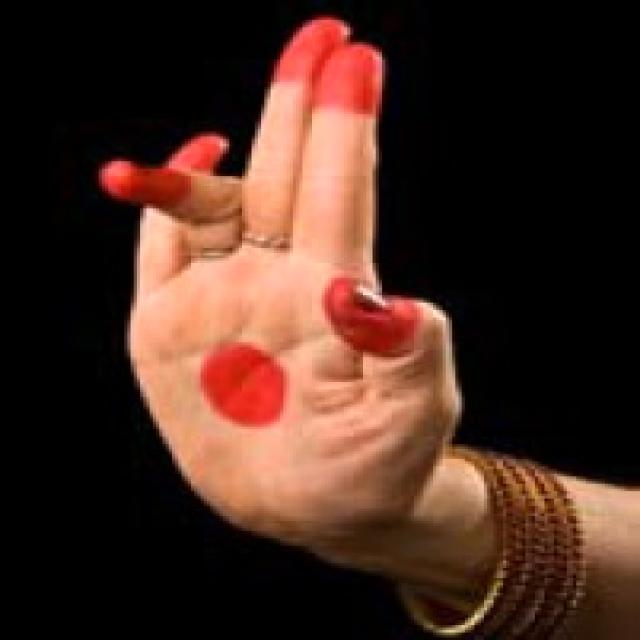Tripataka: (92, 13, 506, 570)
